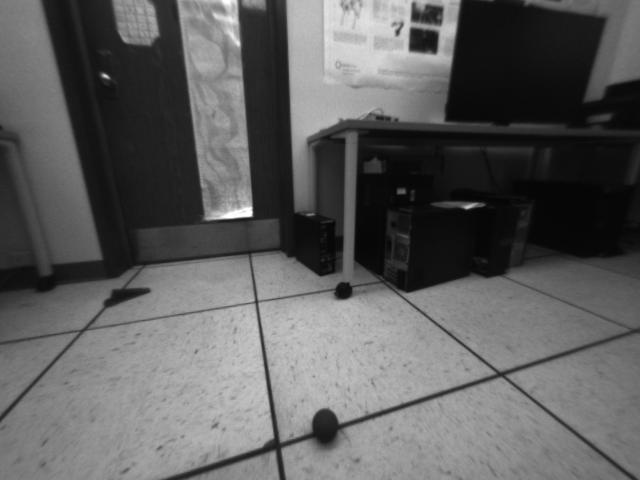dogtoy: (304, 401, 352, 451)
